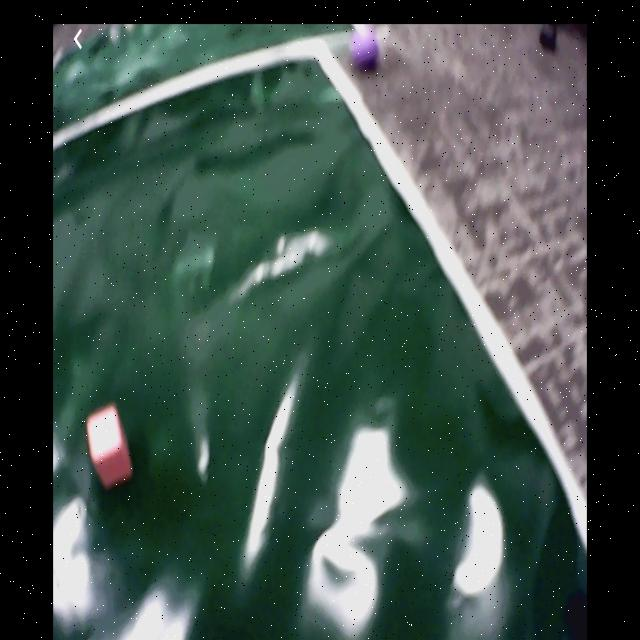ball: (352, 38, 379, 72)
